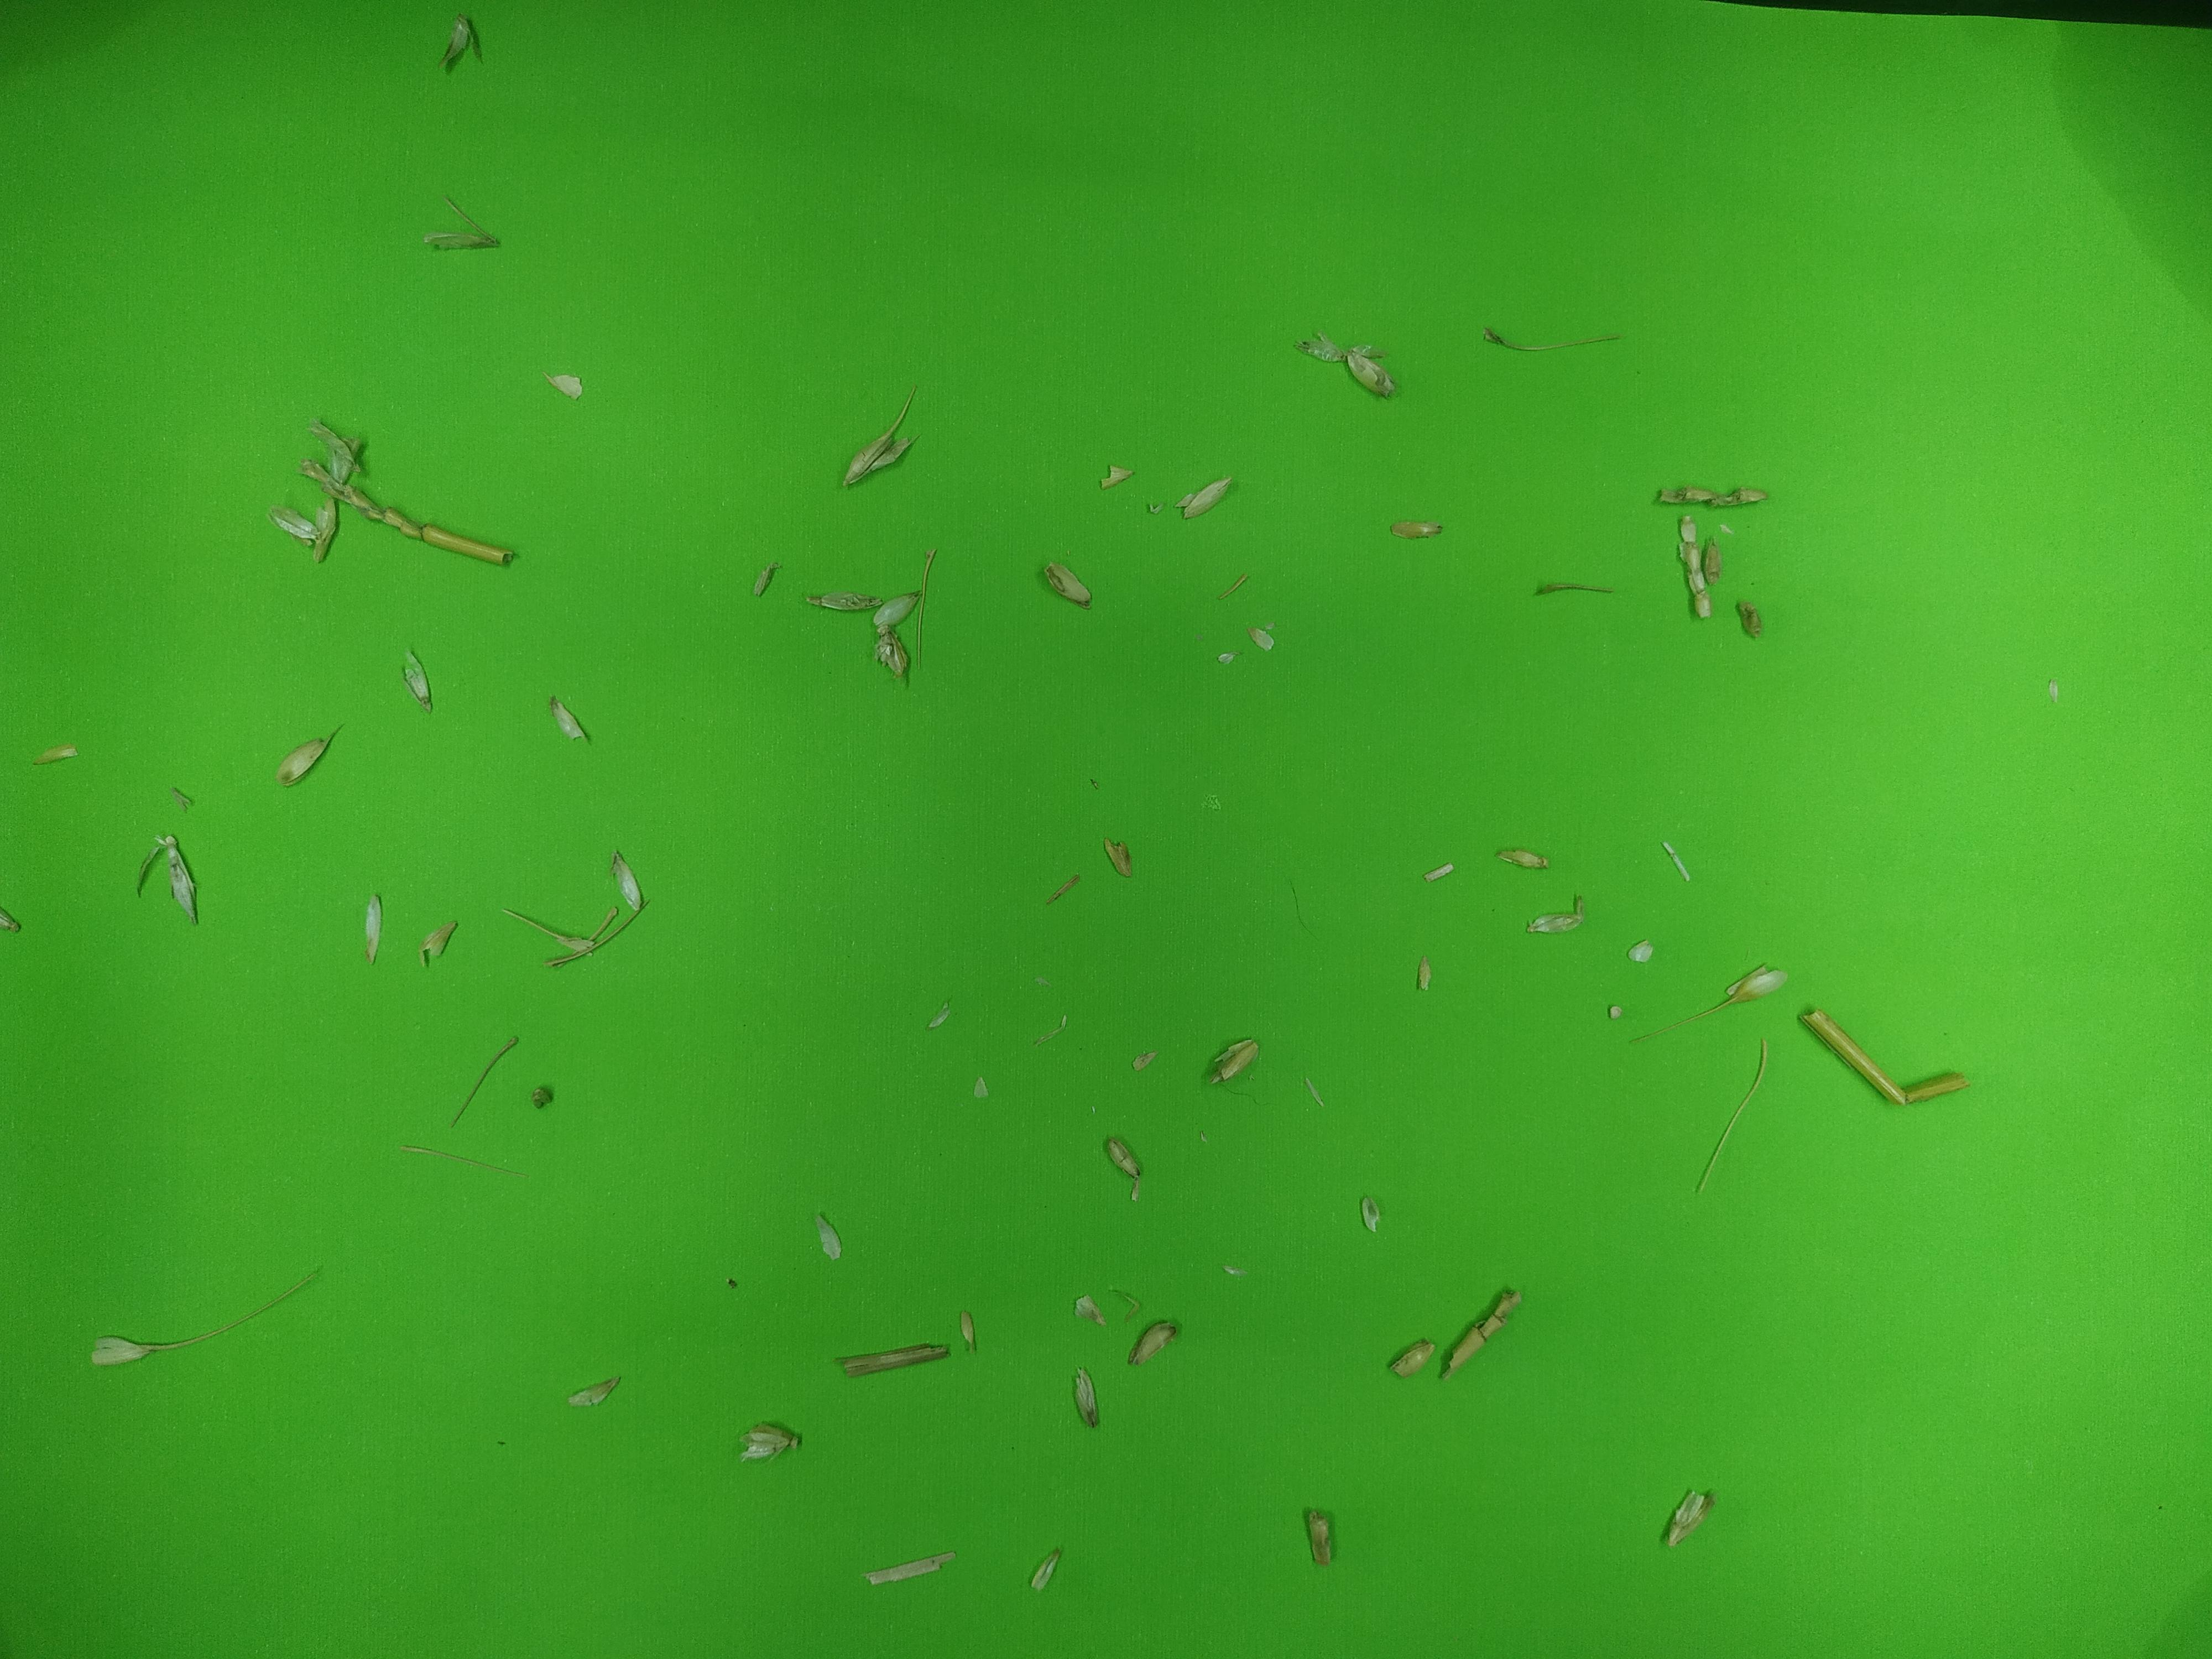impureza: (91, 1263, 327, 1368), (303, 460, 517, 568), (1797, 1007, 1973, 1107), (268, 416, 368, 561), (1627, 960, 1794, 1042), (1698, 1037, 1768, 1195), (833, 383, 921, 490), (1439, 1284, 1526, 1380), (448, 1033, 519, 1131), (547, 899, 648, 965), (131, 830, 199, 925), (834, 1337, 949, 1382), (401, 1141, 526, 1180), (421, 195, 502, 253), (277, 721, 343, 789), (1482, 326, 1623, 357), (502, 908, 596, 955), (1651, 479, 1770, 514), (1663, 1485, 1723, 1547), (1679, 511, 1710, 622), (1294, 328, 1386, 362), (866, 1549, 958, 1584), (733, 1420, 803, 1466), (1345, 347, 1400, 401), (437, 10, 486, 70), (918, 545, 941, 673), (399, 647, 441, 714), (1179, 474, 1233, 525), (545, 692, 592, 749), (801, 586, 888, 615), (874, 584, 927, 633), (1205, 1037, 1259, 1084), (1127, 1317, 1179, 1364), (873, 622, 909, 688), (1526, 896, 1585, 936), (418, 917, 463, 967), (1040, 563, 1090, 606), (608, 847, 641, 913), (1068, 1364, 1103, 1427), (1390, 1338, 1440, 1378), (1536, 575, 1616, 599), (359, 889, 383, 967), (1306, 1504, 1336, 1567), (1493, 843, 1552, 873), (1028, 1549, 1066, 1595), (570, 1375, 622, 1408), (1103, 1138, 1141, 1182), (815, 1209, 845, 1262), (1698, 533, 1726, 587), (543, 368, 585, 403), (1388, 518, 1446, 542), (1043, 870, 1083, 904), (1101, 836, 1134, 878), (1660, 842, 1689, 884), (1073, 1293, 1108, 1328), (752, 559, 786, 594), (956, 1305, 979, 1356), (1096, 464, 1136, 491), (1738, 599, 1763, 641), (1359, 1192, 1383, 1234), (1217, 573, 1251, 601), (1115, 1290, 1143, 1323), (1411, 951, 1433, 992), (1629, 938, 1658, 967), (1420, 859, 1454, 884), (529, 1080, 556, 1112), (1303, 1072, 1324, 1107), (1130, 1049, 1160, 1073), (171, 784, 193, 816), (1249, 629, 1275, 652), (1608, 1002, 1627, 1023)
